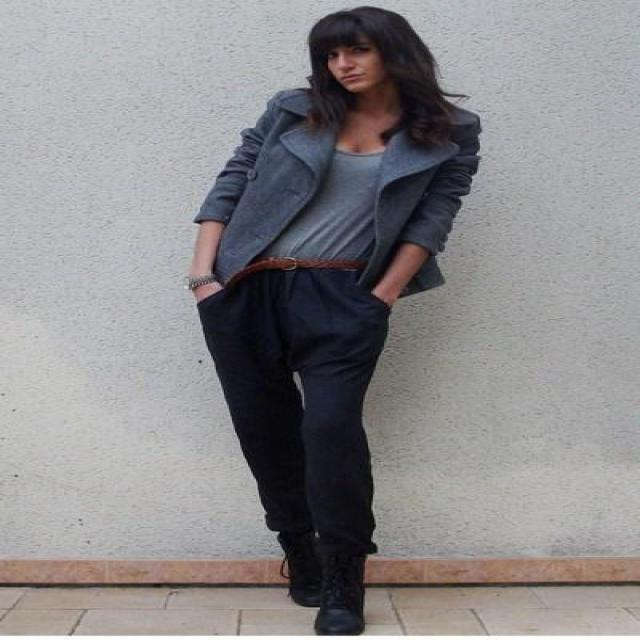jacket: (194, 89, 478, 298)
pants: (197, 243, 390, 563)
shirt: (272, 146, 390, 266)
shoe: (277, 529, 363, 613)
